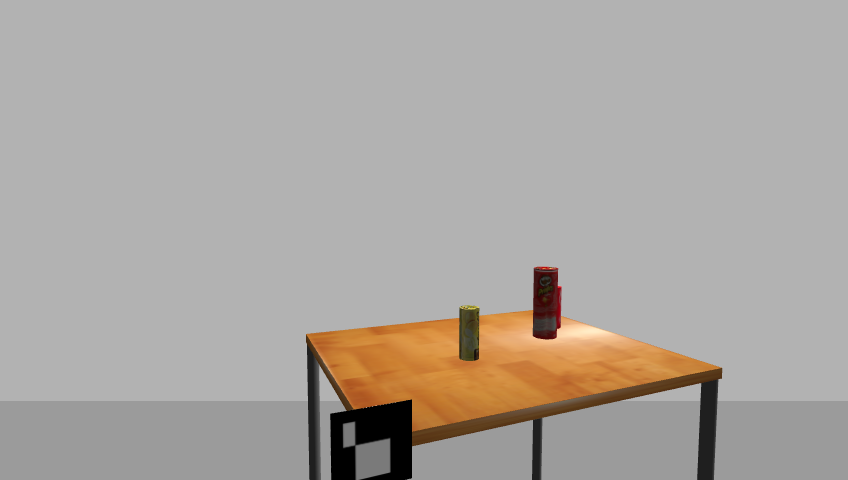aruco marker: (322, 399, 418, 480)
biscuits pack: (457, 305, 481, 363)
coke can: (553, 286, 562, 328)
dinner table: (297, 308, 731, 479)
pringles can: (531, 265, 560, 342)
